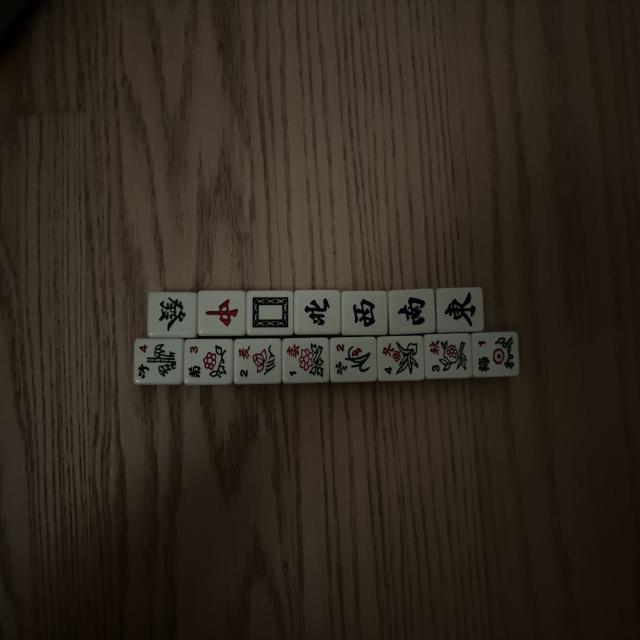bai: (248, 292, 293, 334)
east: (438, 288, 483, 331)
f1: (472, 332, 521, 379)
f2: (330, 336, 378, 381)
f3: (184, 338, 233, 384)
f4: (136, 339, 185, 385)
fa: (149, 292, 197, 338)
ff1: (281, 337, 329, 382)
ff2: (235, 338, 283, 384)
ff3: (425, 333, 472, 379)
ff4: (376, 335, 424, 380)
north: (296, 292, 342, 334)
south: (388, 290, 437, 336)
west: (342, 292, 388, 336)
zhong: (199, 293, 245, 336)
